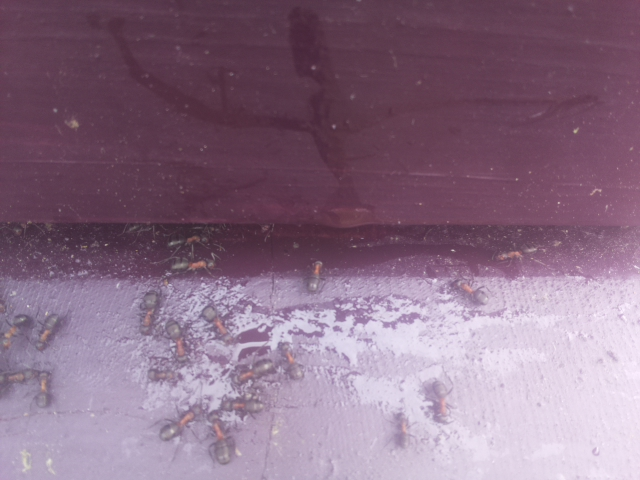ant: (200, 408, 240, 467), (153, 401, 202, 449), (196, 296, 237, 353), (0, 365, 55, 401), (32, 305, 68, 358), (159, 314, 194, 367), (448, 274, 493, 310), (134, 285, 164, 337), (427, 374, 454, 428), (230, 357, 282, 384), (0, 309, 30, 353), (278, 338, 305, 383), (30, 366, 55, 413), (303, 255, 328, 294), (147, 366, 181, 385)
